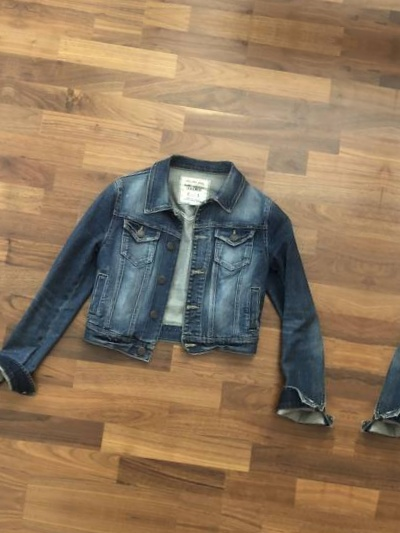Blazer: (0, 89, 385, 462), (347, 145, 400, 518)
